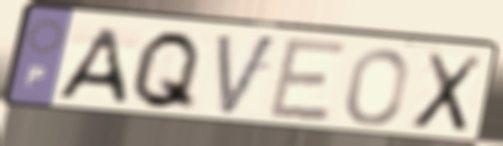A: (51, 24, 129, 107)
E: (265, 35, 351, 125)
O: (342, 46, 412, 128)
Q: (126, 28, 205, 115)
V: (213, 31, 281, 122)
X: (406, 49, 487, 136)
